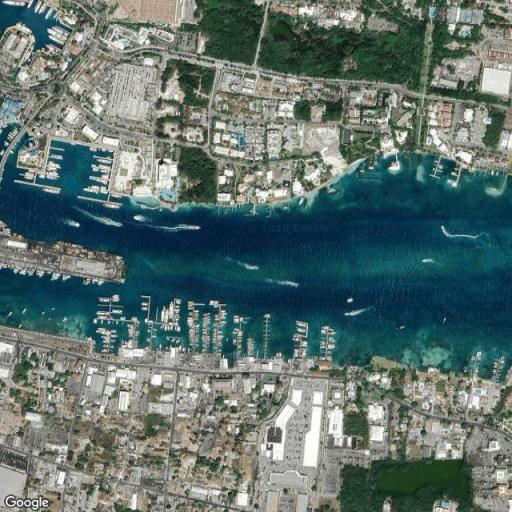ship: (55, 241, 85, 249), (84, 184, 108, 194), (88, 175, 109, 185), (99, 217, 122, 226), (66, 217, 82, 229), (43, 187, 62, 194), (40, 174, 62, 180), (92, 167, 110, 174), (439, 224, 449, 236), (132, 214, 146, 222), (95, 160, 113, 166), (104, 203, 121, 209), (97, 329, 111, 336), (48, 160, 62, 166), (161, 306, 166, 322), (189, 224, 202, 230), (343, 311, 355, 317), (6, 310, 14, 319), (165, 308, 169, 323), (170, 300, 173, 319), (51, 152, 62, 157), (296, 323, 306, 328), (297, 328, 305, 334), (422, 260, 434, 264), (17, 323, 24, 329), (40, 310, 47, 316), (101, 336, 109, 341), (299, 196, 303, 205), (96, 313, 108, 316), (97, 316, 109, 319), (63, 316, 68, 323), (113, 310, 124, 313), (22, 306, 26, 314), (111, 334, 118, 338), (140, 302, 149, 305), (102, 344, 108, 348), (102, 349, 108, 353), (111, 330, 119, 333), (142, 307, 148, 311), (51, 307, 56, 311), (100, 299, 109, 301), (103, 340, 109, 343), (111, 345, 115, 349), (111, 340, 116, 343)
